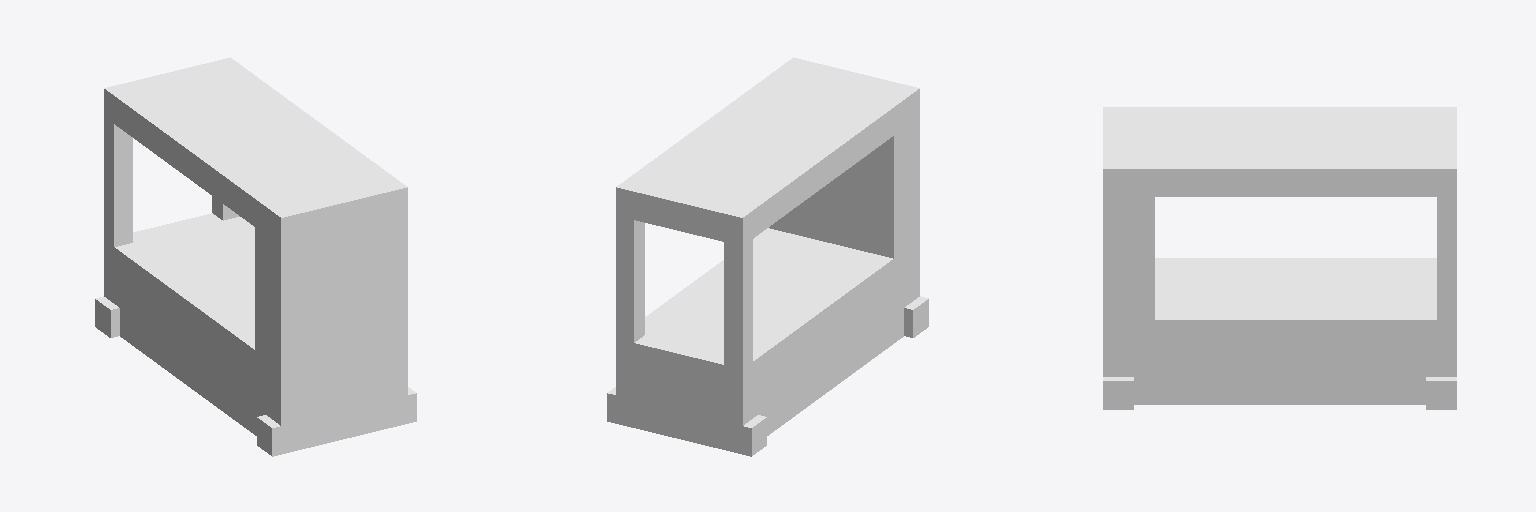
The model's file is bland_car.obj.
The picture shows the model from 3 angles: view 1: azimuth 30°, elevation 25°; view 2: azimuth 150°, elevation 25°; view 3: azimuth 270°, elevation 25°; orthographic projection.
Visible parts, largest first — view 1: object 1; view 2: object 1; view 3: object 1.
Part boxes in pixels (left/top/right/bottom): object 1: left=95, top=57, right=416, bottom=456; object 1: left=607, top=57, right=928, bottom=456; object 1: left=1103, top=107, right=1456, bottom=409.
Size of the model in its own units: 1.6 by 2.5 by 3.4.